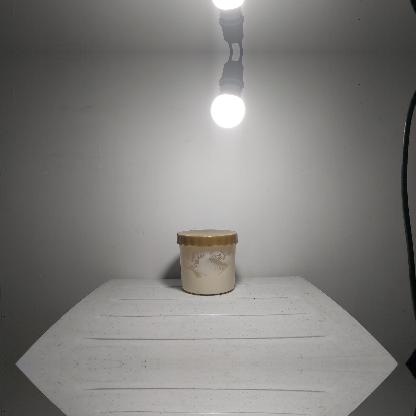Lady-s-Choice: (176, 228, 238, 296)
